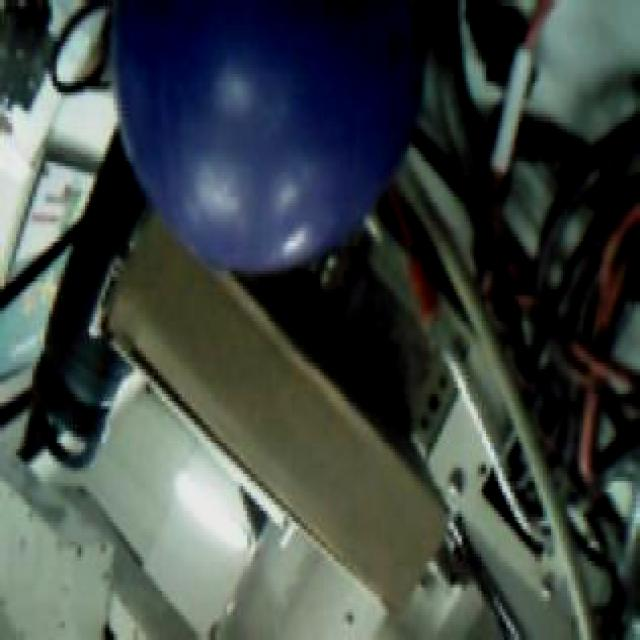BallPurple: (108, 0, 420, 271)
